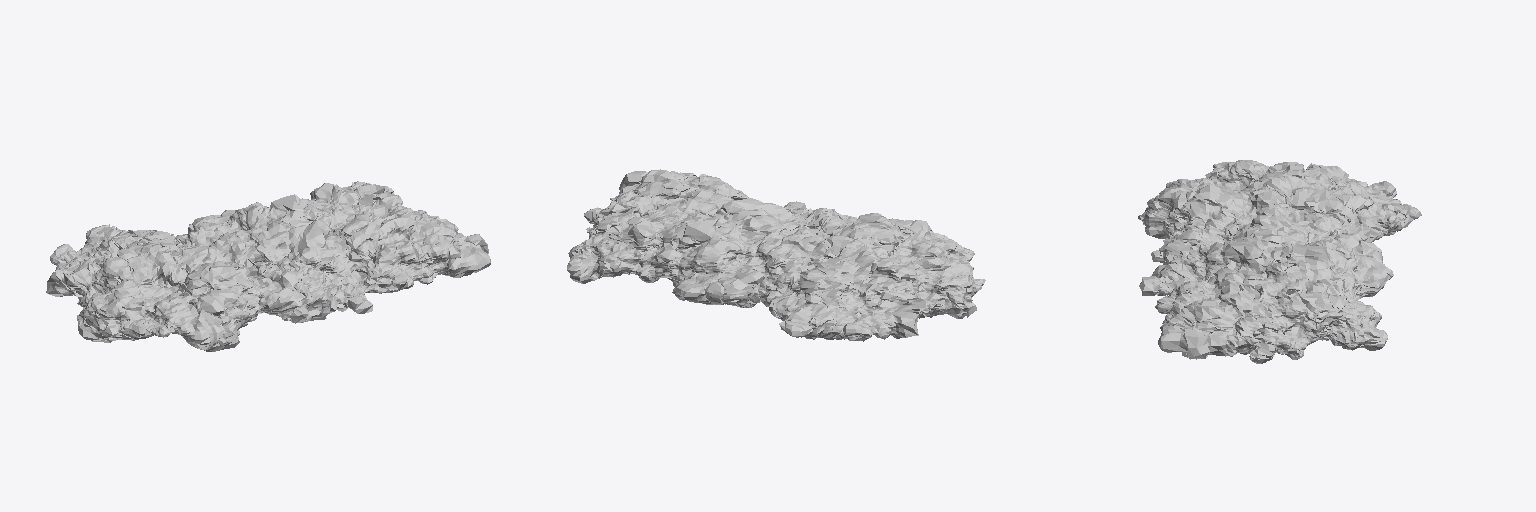
File: Cloud1.obj
3 renders of one model, left to right at view 1: azimuth 30°, elevation 25°; view 2: azimuth 150°, elevation 25°; view 3: azimuth 270°, elevation 25°, orthographic.
Visible parts, largest first — view 1: Cube; view 2: Cube; view 3: Cube.
Part boxes in pixels (bbox=[...]): Cube: bbox=[46, 181, 490, 351]; Cube: bbox=[567, 169, 985, 341]; Cube: bbox=[1138, 160, 1421, 363].
Size of the model in its own units: 11.45 by 1.94 by 7.36.